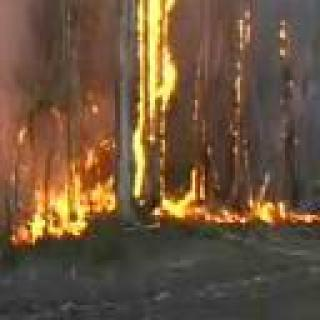fire: (0, 120, 118, 244), (136, 0, 178, 222), (189, 170, 316, 228), (231, 9, 258, 131)
